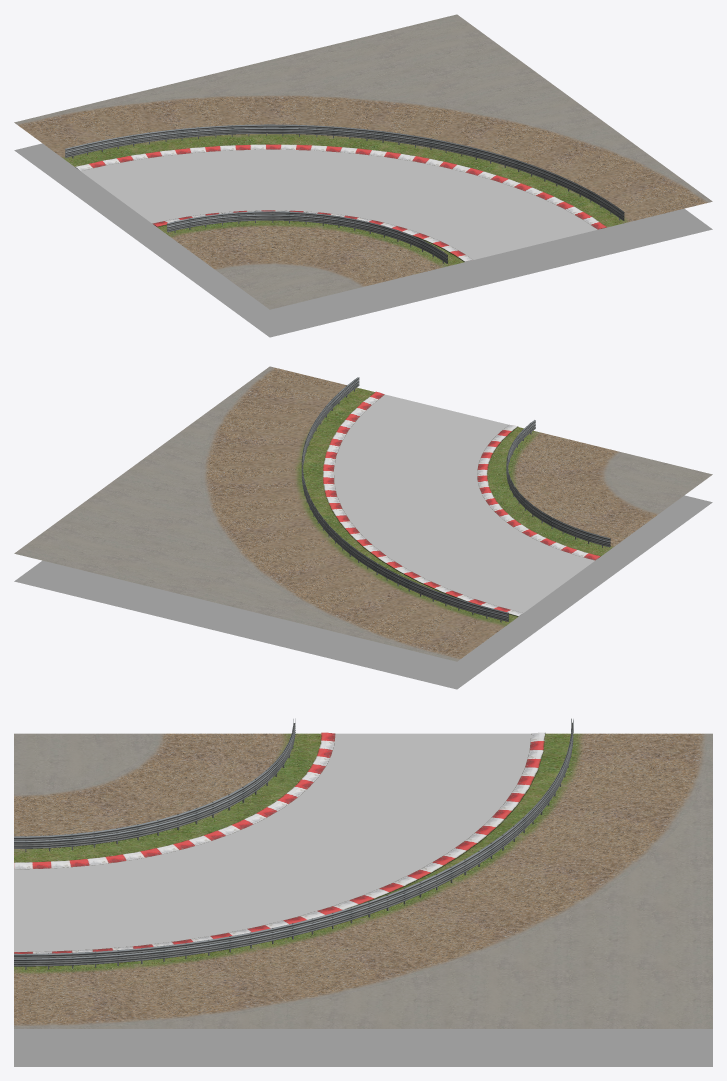
Rendered from Track_Curve_A_Gravel_Flipped.fbx.
3 renders of one model, top to bottom at view 1: azimuth 30°, elevation 25°; view 2: azimuth 150°, elevation 25°; view 3: azimuth 270°, elevation 25°, orthographic. The views are drawn at different scales.
Parts seen in each view (by area): view 1: Road, Gravel_A, Concrete_A, Snap_Plane_Invisible, Gravel_B, Grass, Rail_A, Concrete_B, Curb_A, Rail_B, Curb_B; view 2: Gravel_A, Road, Concrete_A, Snap_Plane_Invisible, Gravel_B, Grass, Concrete_B, Curb_A, Rail_A, Curb_B, Rail_B; view 3: Gravel_A, Road, Concrete_A, Snap_Plane_Invisible, Gravel_B, Grass, Rail_A, Concrete_B, Curb_A, Rail_B, Curb_B.
Part boxes in pixels (x1=…): Road: x1=81, y1=149, x2=597, y2=259; Gravel_A: x1=14, y1=93, x2=712, y2=223; Concrete_A: x1=22, y1=14, x2=708, y2=198; Snap_Plane_Invisible: x1=14, y1=143, x2=712, y2=337; Gravel_B: x1=168, y1=223, x2=446, y2=287; Grass: x1=65, y1=136, x2=623, y2=266; Rail_A: x1=65, y1=124, x2=624, y2=220; Concrete_B: x1=219, y1=266, x2=357, y2=309; Curb_A: x1=75, y1=144, x2=606, y2=229; Rail_B: x1=167, y1=211, x2=447, y2=263; Curb_B: x1=152, y1=210, x2=472, y2=261; Gravel_A: x1=200, y1=366, x2=507, y2=661; Road: x1=334, y1=394, x2=594, y2=612; Concrete_A: x1=14, y1=369, x2=450, y2=660; Snap_Plane_Invisible: x1=14, y1=495, x2=712, y2=689; Gravel_B: x1=508, y1=431, x2=661, y2=549; Grass: x1=303, y1=388, x2=610, y2=624; Concrete_B: x1=610, y1=453, x2=712, y2=511; Curb_A: x1=323, y1=391, x2=523, y2=616; Rail_A: x1=301, y1=377, x2=508, y2=622; Curb_B: x1=477, y1=424, x2=600, y2=560; Rail_B: x1=506, y1=420, x2=610, y2=547; Gravel_A: x1=14, y1=733, x2=712, y2=1028; Road: x1=14, y1=733, x2=531, y2=951; Concrete_A: x1=19, y1=736, x2=712, y2=1028; Snap_Plane_Invisible: x1=14, y1=1029, x2=712, y2=1066; Gravel_B: x1=14, y1=733, x2=291, y2=851; Grass: x1=14, y1=733, x2=570, y2=969; Rail_A: x1=14, y1=718, x2=573, y2=969; Concrete_B: x1=14, y1=733, x2=153, y2=792; Curb_A: x1=14, y1=732, x2=545, y2=953; Rail_B: x1=14, y1=718, x2=295, y2=852; Curb_B: x1=14, y1=732, x2=335, y2=869.
Size of the model in its own units: 50 by 4.24 by 50.01.
